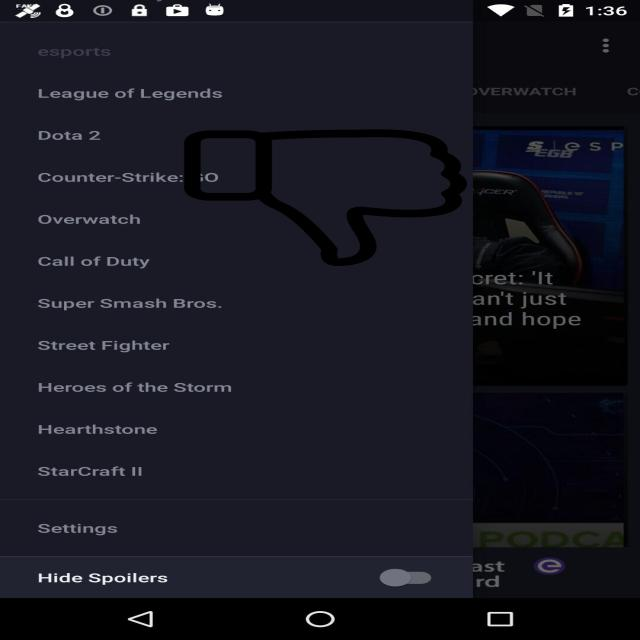obstruction: (180, 129, 471, 266)
